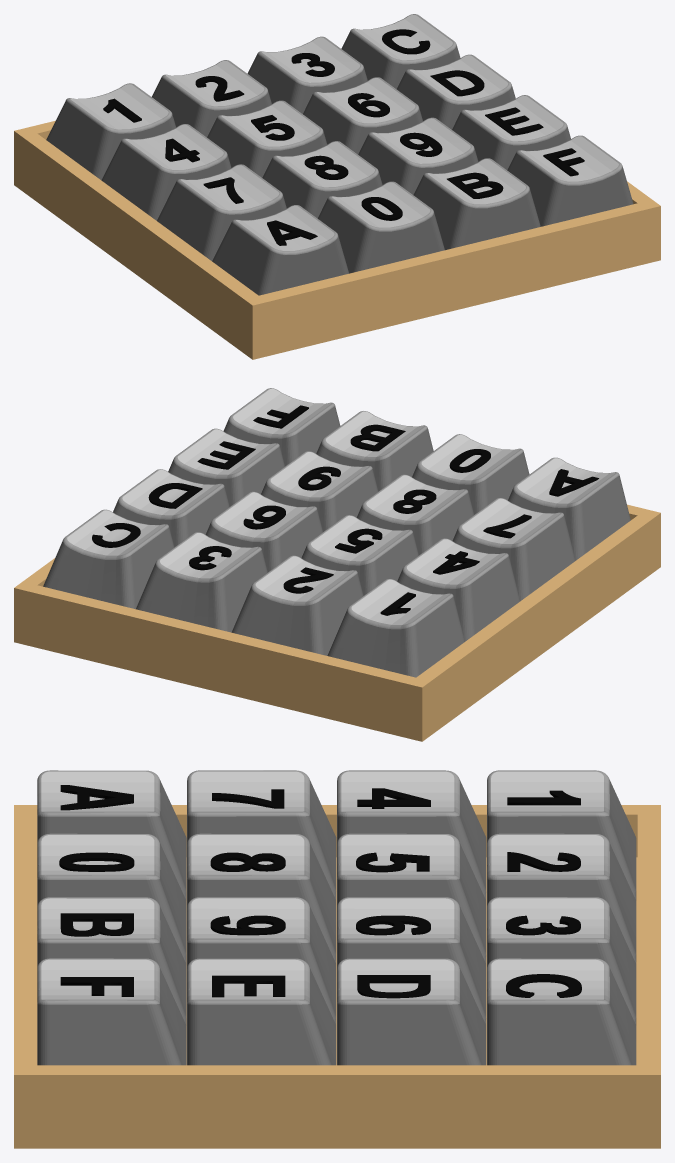
Rendered from keyboard.gltf.
The picture shows the model from 3 angles, top to bottom: view 1: azimuth 30°, elevation 25°; view 2: azimuth 150°, elevation 25°; view 3: azimuth 270°, elevation 25°; orthographic projection. The views are drawn at different scales.
Parts seen in each view (by area): view 1: pad, letterA, letterB, number0, letterF, number1, number7, number4, number6, number9, number3, number8 (+5 smaller); view 2: pad, number1, number3, number2, letterC, number7, number4, letterA, number0, number8, number6, number9 (+5 smaller); view 3: pad, letterF, letterE, letterD, letterC, number5, number0, number8, number7, number4, number1, letterA (+5 smaller).
Part boxes in pixels (x1,y1,x2,y2): pad: (14,120,660,359); letterA: (212,205,348,295); letterB: (413,158,540,250); number0: (318,181,444,273); letterF: (507,135,633,226); number1: (46,83,175,180); number7: (157,164,286,260); number4: (101,124,231,220); number6: (303,77,422,154); number9: (358,117,478,194); number3: (247,36,367,113); number8: (262,141,382,218); pad: (14,504,660,741); number1: (327,579,464,677); number3: (136,532,267,632); number2: (231,555,363,655); letterC: (43,509,174,608); number7: (452,498,575,600); number4: (397,538,520,641); letterA: (508,457,630,560); number0: (412,434,529,514); number8: (356,474,473,554); number6: (205,491,322,572); number9: (261,451,378,531); pad: (14,805,660,1148); letterF: (37,958,186,1065); letterE: (187,958,336,1065); letterD: (337,958,486,1065); letterC: (487,958,636,1065); number5: (337,833,486,963); number0: (37,833,186,964); number8: (187,833,336,963); number7: (187,770,336,899); number4: (337,770,486,900); number1: (487,770,636,900); letterA: (37,770,186,900).
Bounding box in the file's own units: 26.42 × 5.89 × 26.76.
